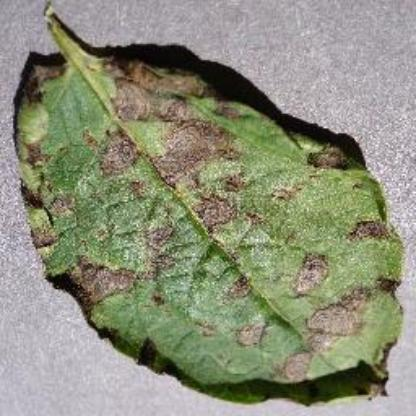Early-Blight: (6, 0, 408, 400)
